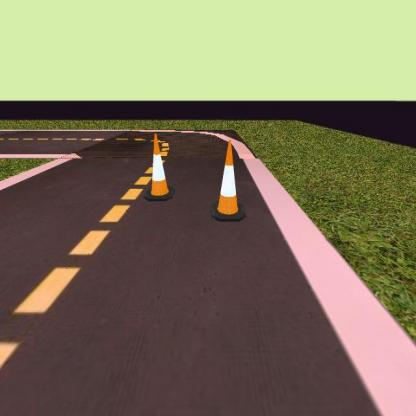Cone: (212, 138, 246, 220), (146, 133, 174, 201)
